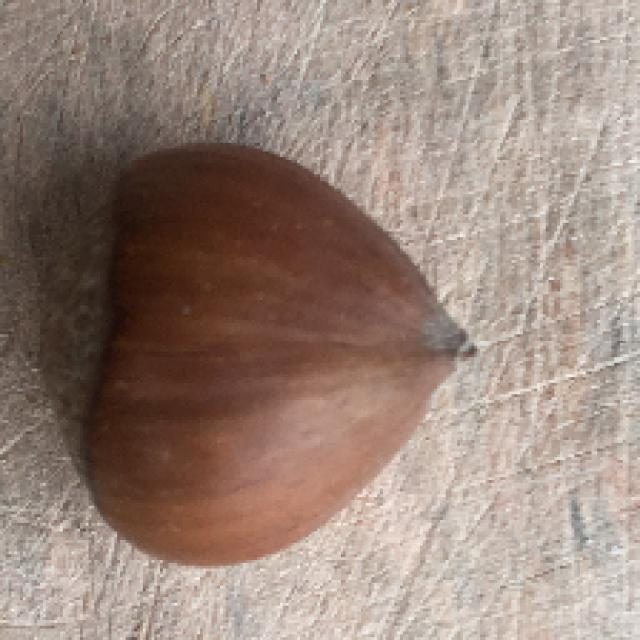damagedHazelnut: (39, 133, 492, 571)
